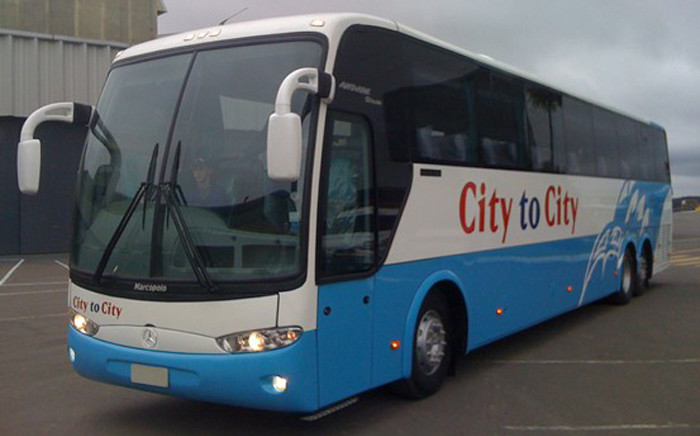bus: (11, 12, 673, 417)
